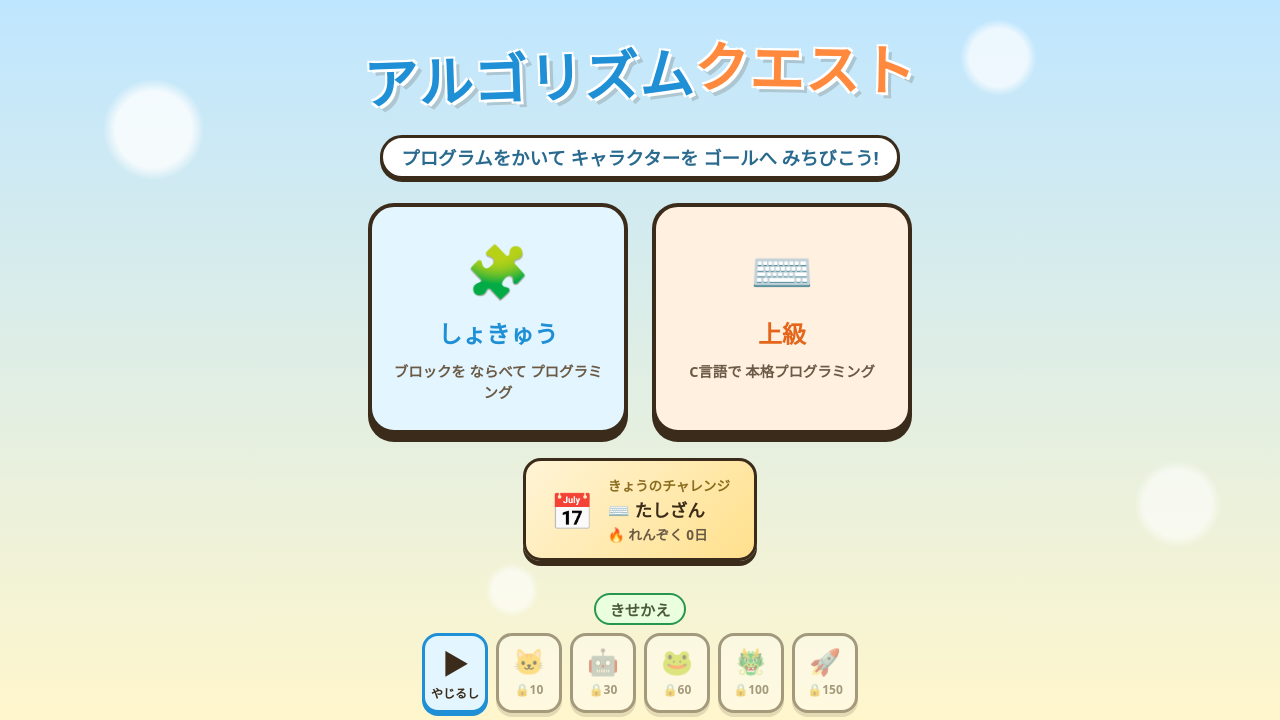
Test case: IO問題のフロー › 解答例ボタン: 確認をはさんでモーダル表示 → エディタに貼り付けられる
Click the button "⌨️ 上級 C言語で 本格プログラミング" at (782, 318), box [652, 203, 912, 434]
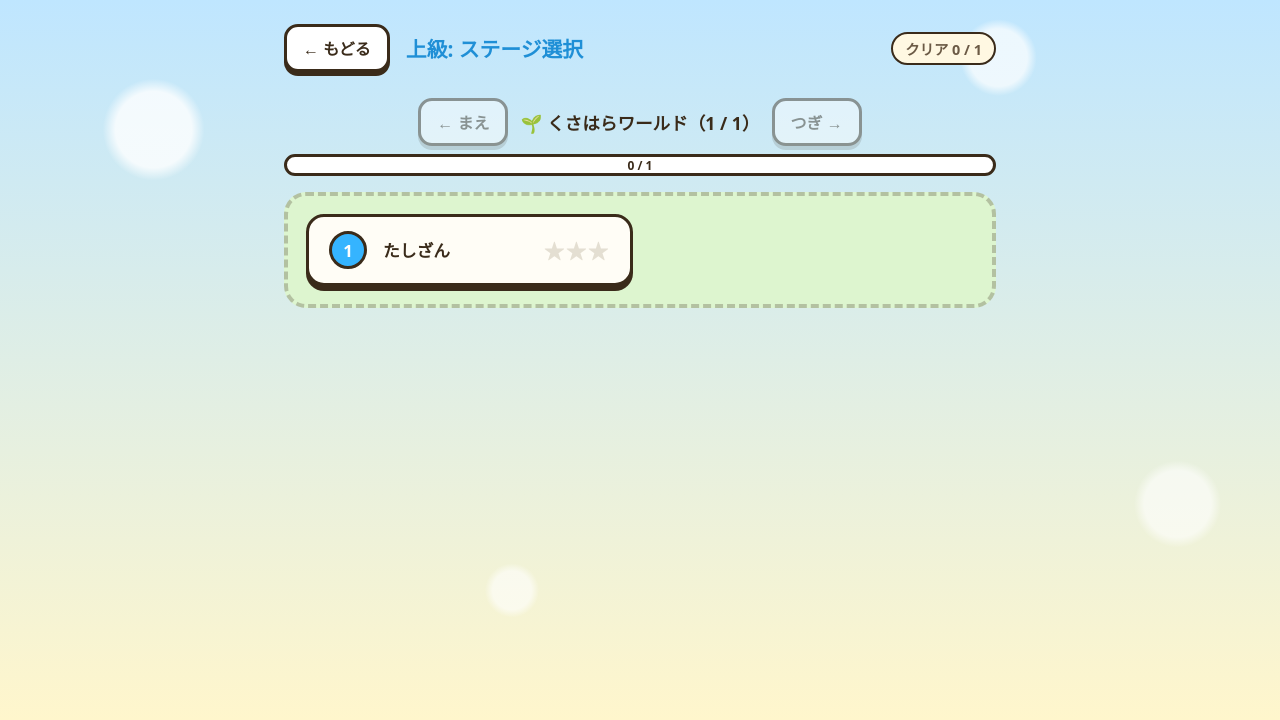
Result: the button "1 たしざん ★★★" is shown
Click the button "1 たしざん ★★★" at (348, 250), box [306, 214, 633, 286]
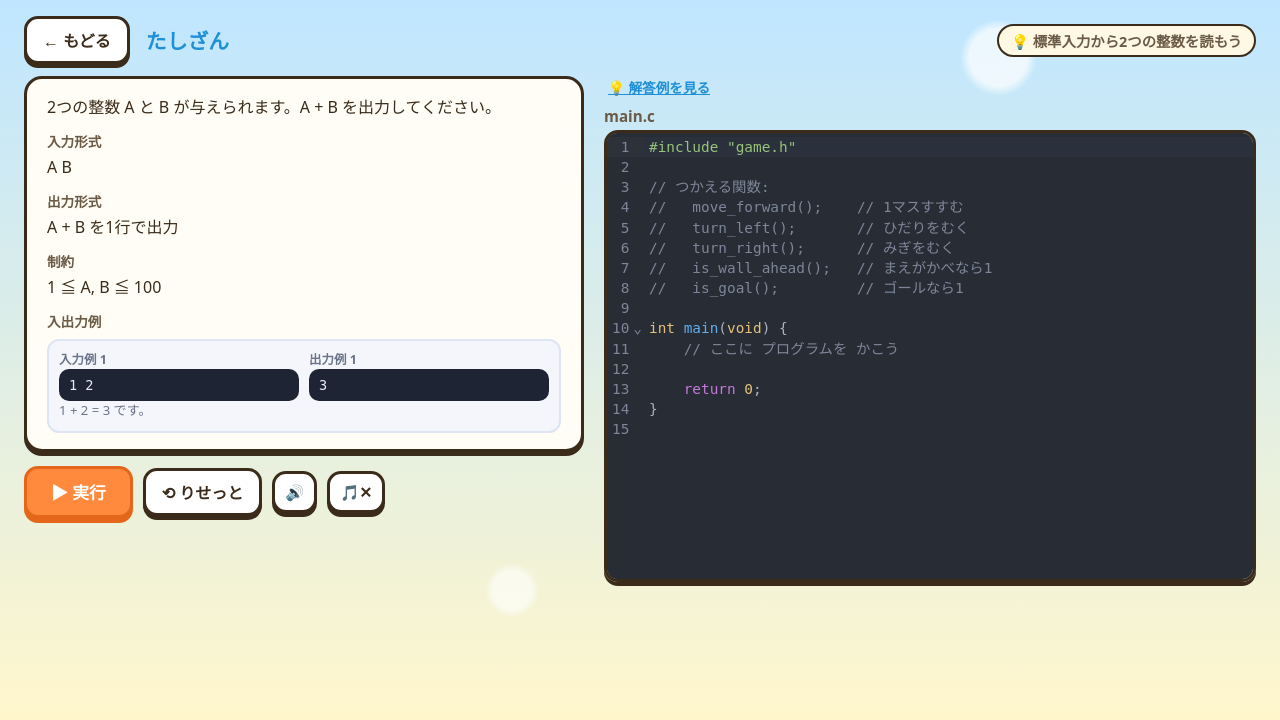
Click the button "💡 解答例を見る" at (659, 87), box [604, 77, 714, 97]
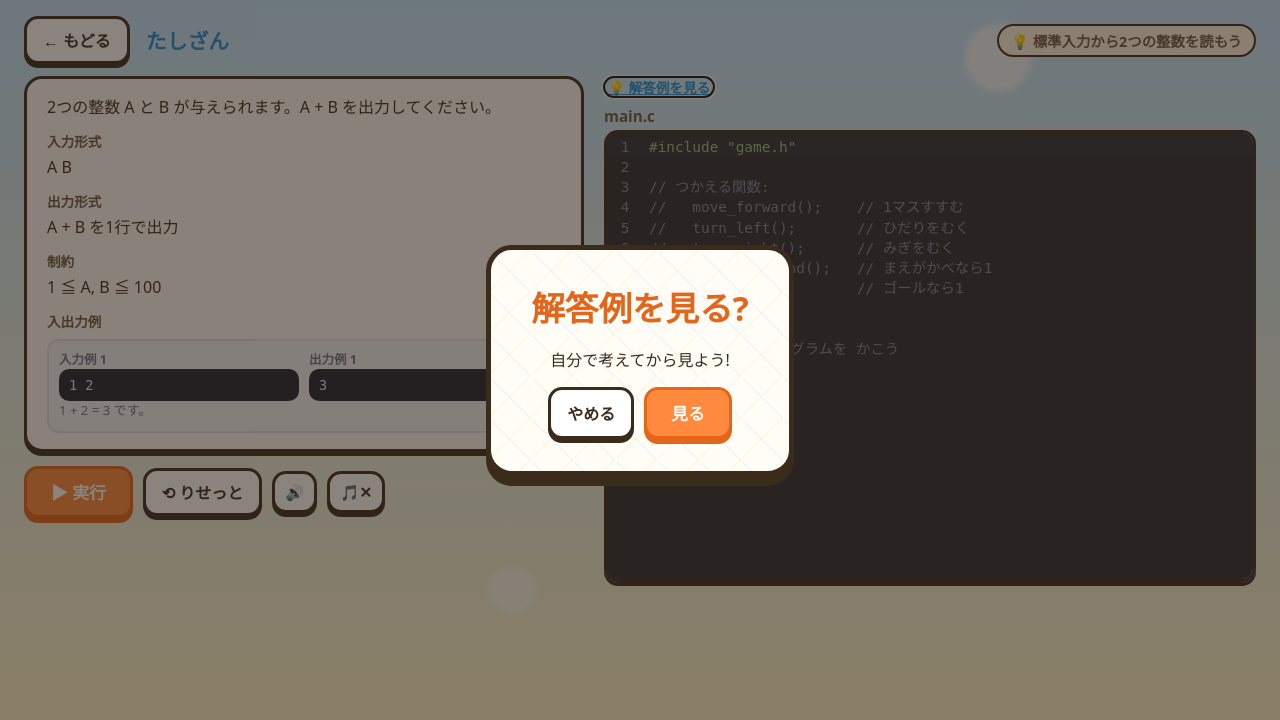
Result: the text "自分で考えてから見よう!" is shown at [550, 348, 730, 370]
Click the button "見る" at (688, 412), box [644, 386, 732, 438]
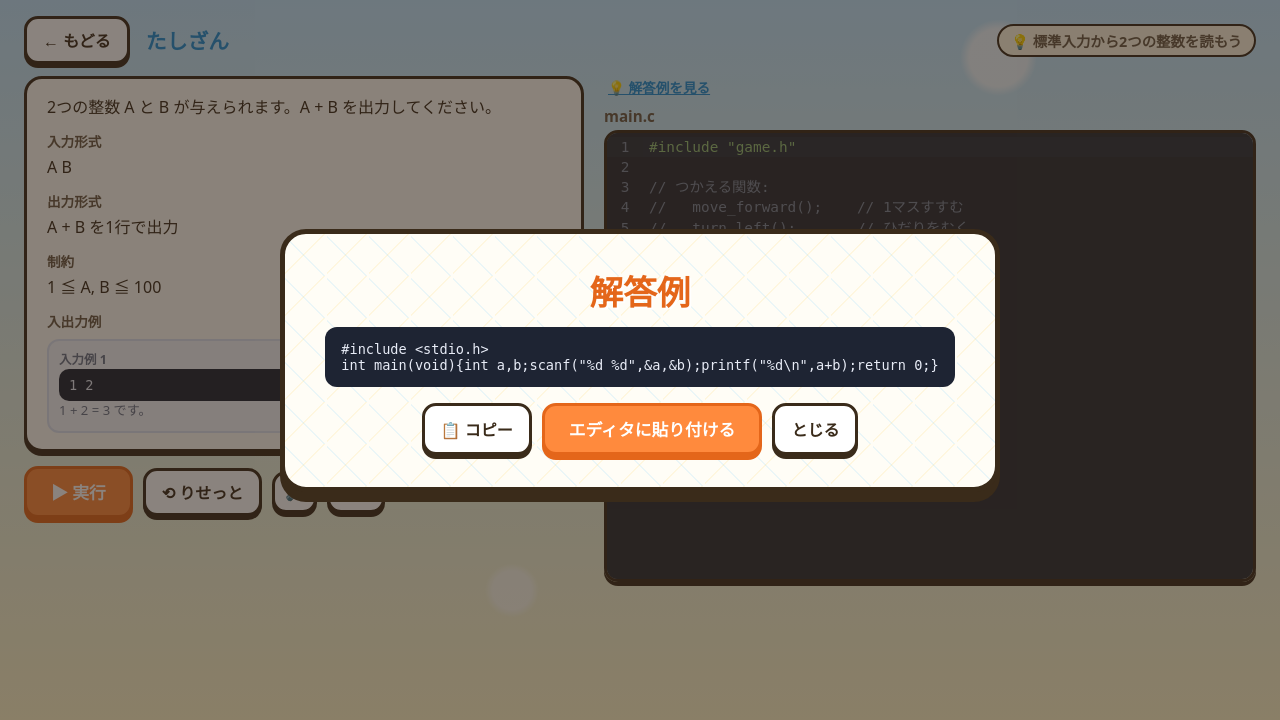
Result: the heading "解答例" is shown at [590, 268, 690, 314]
Result: the text with class "solution-code" shows "scanf" at [341, 340, 939, 372]
エディタに貼り付け → モーダルが閉じてエディタへ反映
Click the button "エディタに貼り付ける" at (652, 428), box [542, 402, 762, 454]
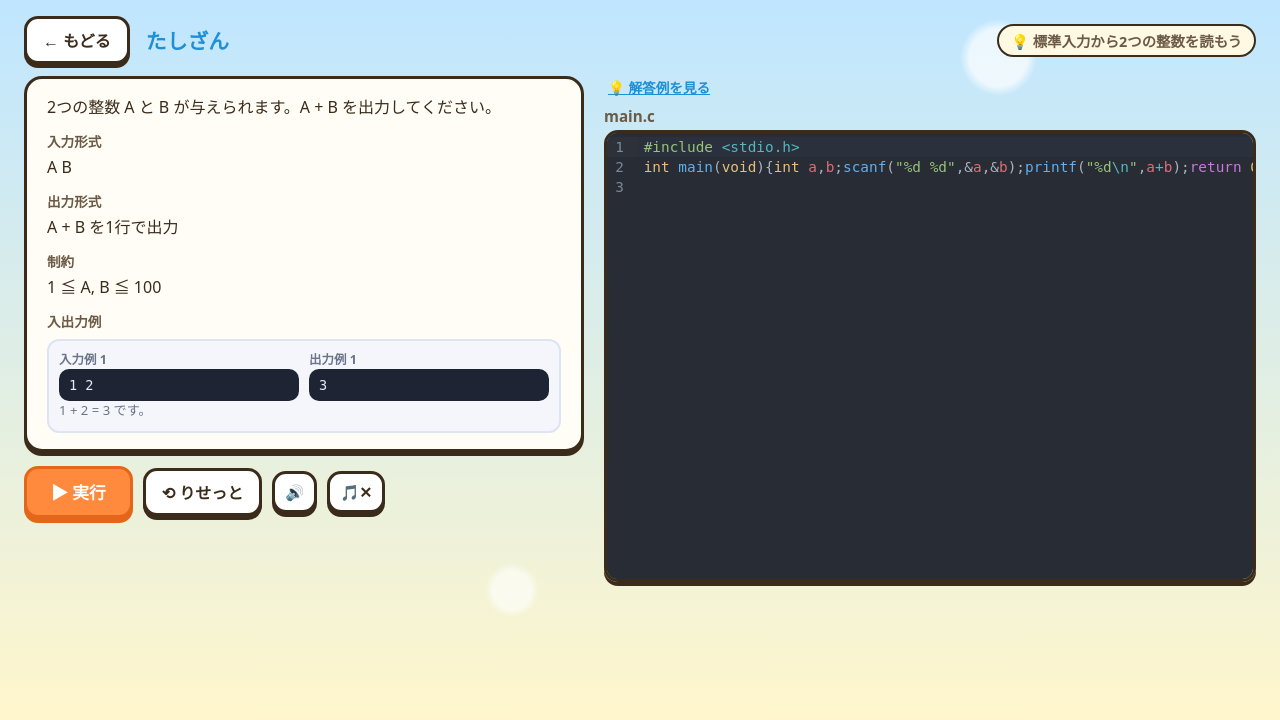
Result: the field with class "cm-content" shows "scanf" at [638, 137, 1253, 175]
